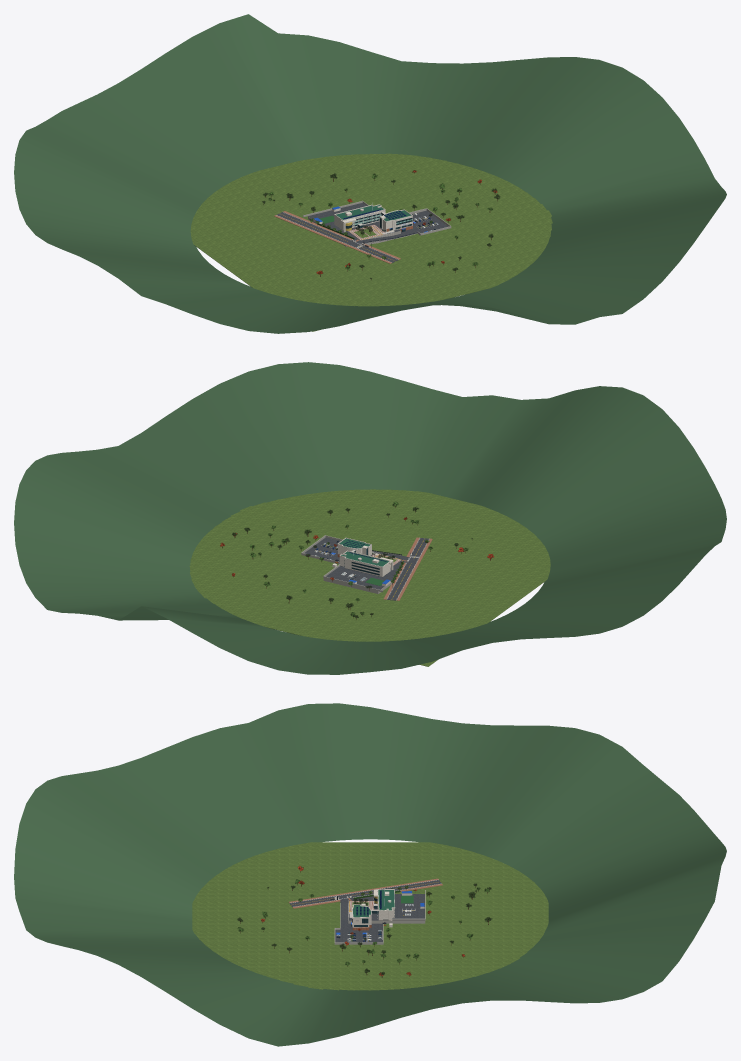
The model's file is mma_bukbu_blender.glb.
3 views of the same model, one above another, from view 1: azimuth 30°, elevation 25°; view 2: azimuth 150°, elevation 25°; view 3: azimuth 270°, elevation 25° (orthographic).
Parts seen in each view (by area): view 1: DobongsanRidge, BaseGround, rd, UpperAsphalt; view 2: DobongsanRidge, BaseGround, UpperAsphalt, rd; view 3: DobongsanRidge, BaseGround, UpperAsphalt, rd.
Boxes of the visible parts, left/top/right/bottom form: DobongsanRidge: left=14, top=14, right=726, bottom=333; BaseGround: left=190, top=153, right=552, bottom=331; rd: left=277, top=212, right=398, bottom=262; UpperAsphalt: left=308, top=203, right=400, bottom=240; DobongsanRidge: left=14, top=362, right=726, bottom=674; BaseGround: left=189, top=489, right=550, bottom=666; UpperAsphalt: left=326, top=552, right=403, bottom=589; rd: left=387, top=538, right=429, bottom=600; DobongsanRidge: left=14, top=703, right=726, bottom=1046; BaseGround: left=192, top=842, right=548, bottom=990; UpperAsphalt: left=348, top=894, right=424, bottom=920; rd: left=289, top=880, right=441, bottom=906.
Bounding box in the file's own units: 840 × 99.77 × 840.
45 materials, 16 textured.
